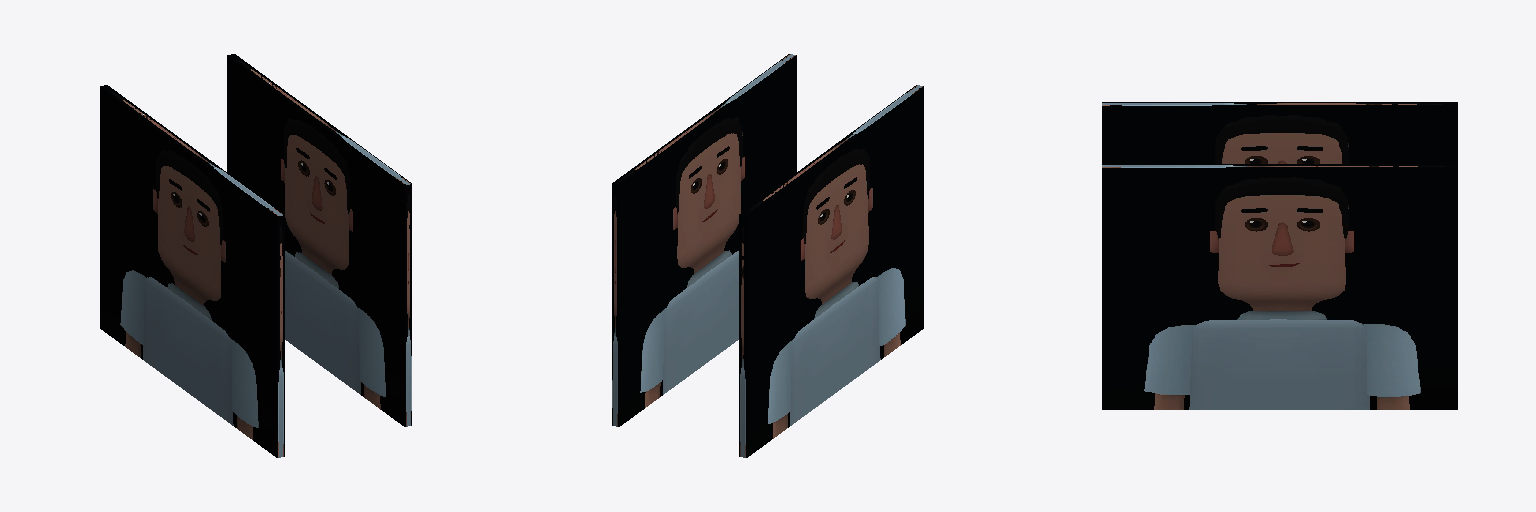
3 renders of one model, left to right at view 1: azimuth 30°, elevation 25°; view 2: azimuth 150°, elevation 25°; view 3: azimuth 270°, elevation 25°, orthographic.
Size of the model in its own units: 21.22 by 36.23 by 48.34.
Materials: 1 (1 with a texture image).